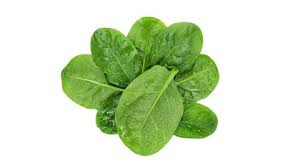spinach: (69, 20, 223, 140)
